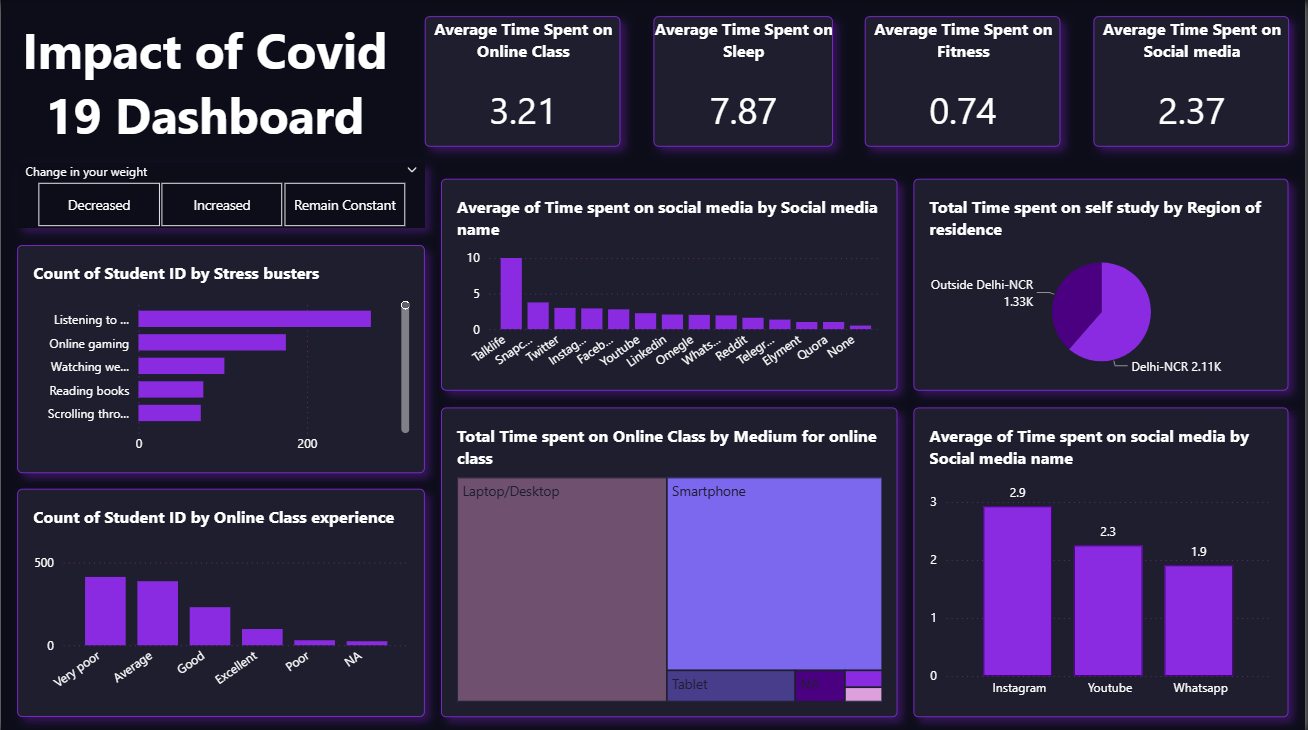

Layout of this report page (visuals, bound fields, positions):
{"tool":"powerbi","page":{"name":"Covid19","canvas":[1280,720],"ordinal":0},"visuals":[{"type":"textbox","box":[16,16,368,128],"z":0},{"type":"card","title":"Average Time Spent on Online Class","fields":{"Values":["Impact_of_C19_on_Students.Time spent on Online Class"]},"box":[416,16,192,128],"z":1000},{"type":"card","title":"Average Time Spent on Sleep","fields":{"Values":["Impact_of_C19_on_Students.Time spent on sleep"]},"box":[640,16,176,128],"z":2000},{"type":"card","title":"Average Time Spent on Fitness","fields":{"Values":["Impact_of_C19_on_Students.Time spent on fitness"]},"box":[848,16,192,128],"z":3000},{"type":"card","title":"Average Time Spent on Social media","fields":{"Values":["Impact_of_C19_on_Students.Time spent on social media"]},"box":[1072,16,192,128],"z":4000},{"type":"slicer","fields":{"Values":["Impact_of_C19_on_Students.Change in your weight"]},"box":[16,160,400,64],"z":5000},{"type":"clusteredBarChart","fields":{"Y":["Impact_of_C19_on_Students.Student ID"],"Category":["Impact_of_C19_on_Students.Stress busters"]},"box":[16,240,400,224],"z":6000},{"type":"columnChart","fields":{"Y":["Impact_of_C19_on_Students.Time spent on social media"],"Category":["Impact_of_C19_on_Students.Social media name"]},"box":[432,176,448,208],"z":7000},{"type":"columnChart","fields":{"Y":["Impact_of_C19_on_Students.Student ID"],"Category":["Impact_of_C19_on_Students.Online Class experience"]},"box":[16,480,400,224],"z":8000},{"type":"treemap","title":"Total Time spent on Online Class by Medium for online class","fields":{"Details":["Impact_of_C19_on_Students.Medium for online class"],"Values":["Impact_of_C19_on_Students.Time spent on Online Class"]},"box":[432,400,448,304],"z":9000},{"type":"pieChart","title":"Total Time spent on self study by Region of residence","fields":{"Y":["Impact_of_C19_on_Students.Time spent on self study"],"Category":["Impact_of_C19_on_Students.Region of residence"]},"box":[896,176,368,208],"z":10000},{"type":"columnChart","fields":{"Category":["Impact_of_C19_on_Students.Social media name"],"Y":["Impact_of_C19_on_Students.Time spent on social media"]},"box":[896,400,368,304],"z":11000}]}

Visuals, with their boxes in screenshot pixels (x1, y1, x2, y2), scaled from the page's 1280x720 canvas onto the 1308x730 screenshot:
textbox: (16,16,392,146)
"Average Time Spent on Online Class" card: (425,16,621,146)
"Average Time Spent on Sleep" card: (654,16,834,146)
"Average Time Spent on Fitness" card: (867,16,1063,146)
"Average Time Spent on Social media" card: (1095,16,1292,146)
slicer - Impact_of_C19_on_Students.Change in your weight: (16,162,425,227)
clusteredBarChart - Impact_of_C19_on_Students.Student ID x Impact_of_C19_on_Students.Stress busters: (16,243,425,470)
columnChart - Impact_of_C19_on_Students.Time spent on social media x Impact_of_C19_on_Students.Social media name: (441,178,899,389)
columnChart - Impact_of_C19_on_Students.Student ID x Impact_of_C19_on_Students.Online Class experience: (16,487,425,714)
"Total Time spent on Online Class by Medium for online class" treemap: (441,406,899,714)
"Total Time spent on self study by Region of residence" pieChart: (916,178,1292,389)
columnChart - Impact_of_C19_on_Students.Social media name x Impact_of_C19_on_Students.Time spent on social media: (916,406,1292,714)
